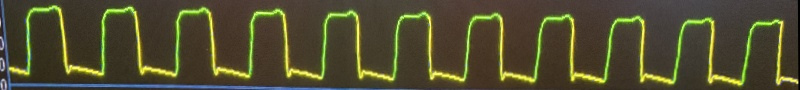normal_pressure: (0, 5, 797, 90)
